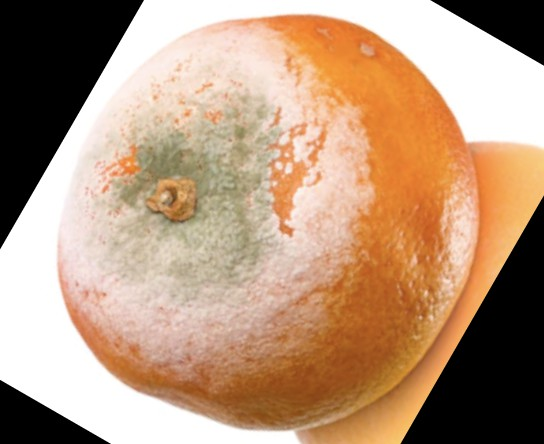rotten_orange: (59, 15, 478, 433)
